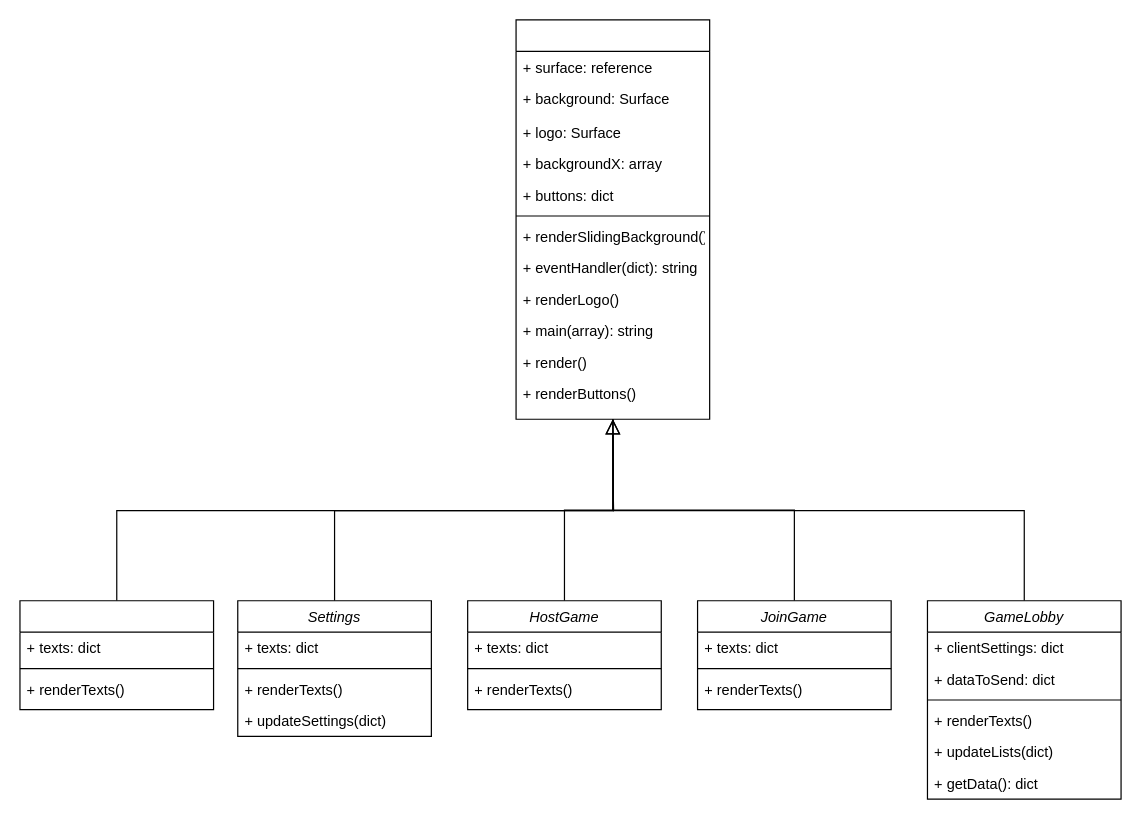
This 1141x819 diagram has some shape labels left out. The shapes that lost their labels are listed below. From the top down, each one's box as (x1, y1, x2, y2) in pixels, then its label:
(515, 19, 710, 419): Menu
(19, 600, 214, 710): Credits
